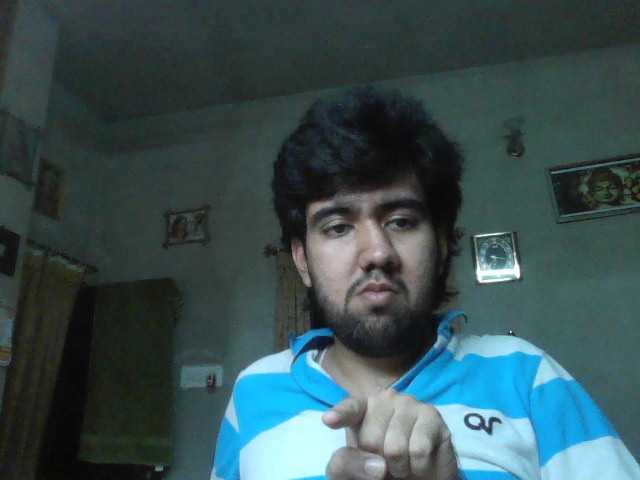You: (321, 390, 457, 480)
